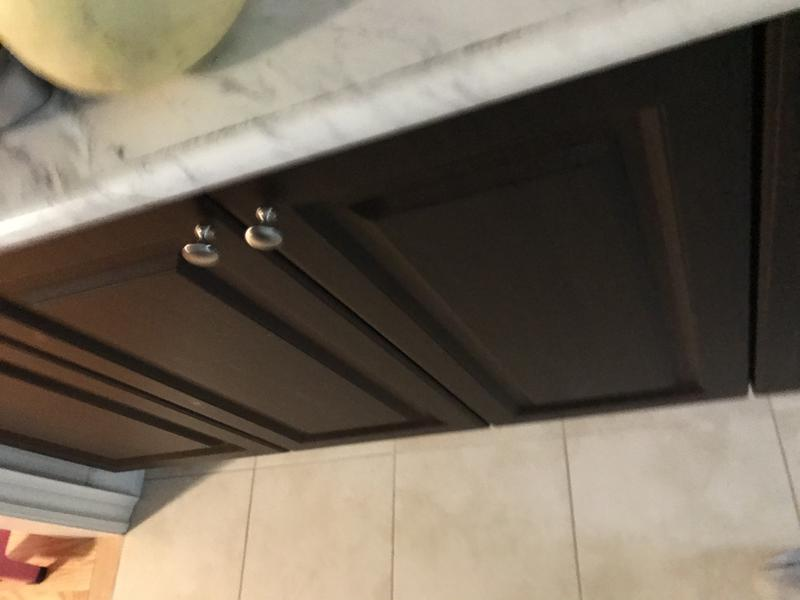honeydew: (1, 1, 262, 105)
